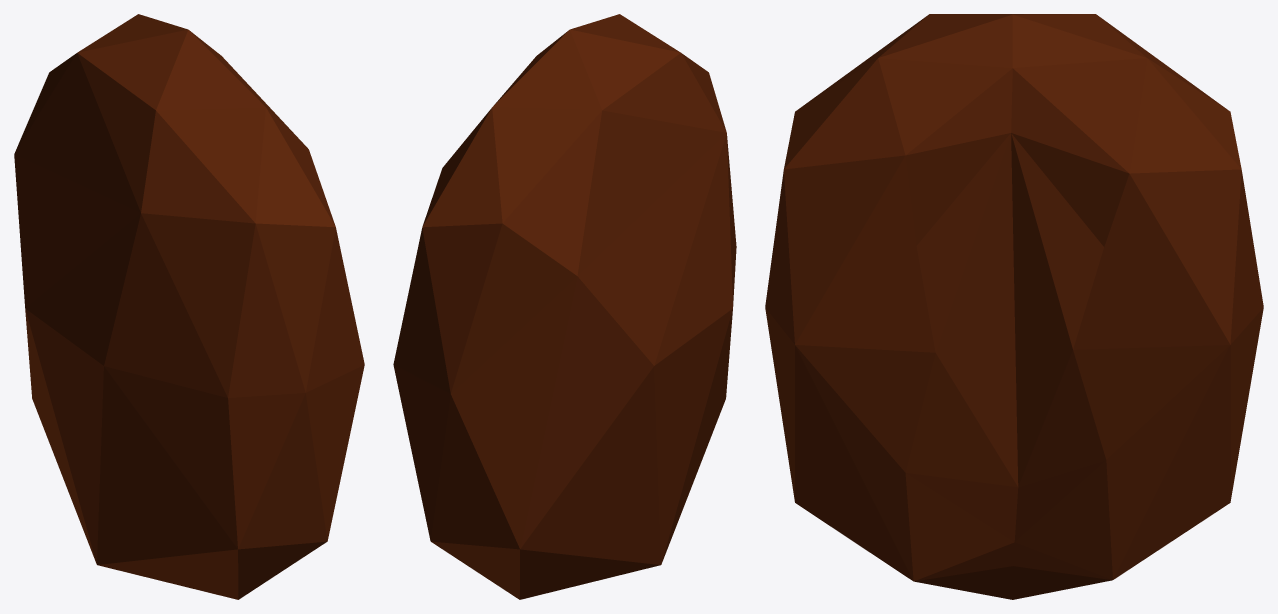
Rendered from CoffeeBean.fbx.
3 views of the same model, side by side, from view 1: azimuth 30°, elevation 25°; view 2: azimuth 150°, elevation 25°; view 3: azimuth 270°, elevation 25° (orthographic). The views are drawn at different scales.
Visible parts, largest first — view 1: Icosphere; view 2: Icosphere; view 3: Icosphere.
Part boxes in pixels (<box>): Icosphere: <box>14,14,364,599</box>; Icosphere: <box>393,14,736,599</box>; Icosphere: <box>765,14,1263,599</box>.
Size of the model in its own units: 92.49 by 240 by 185.
